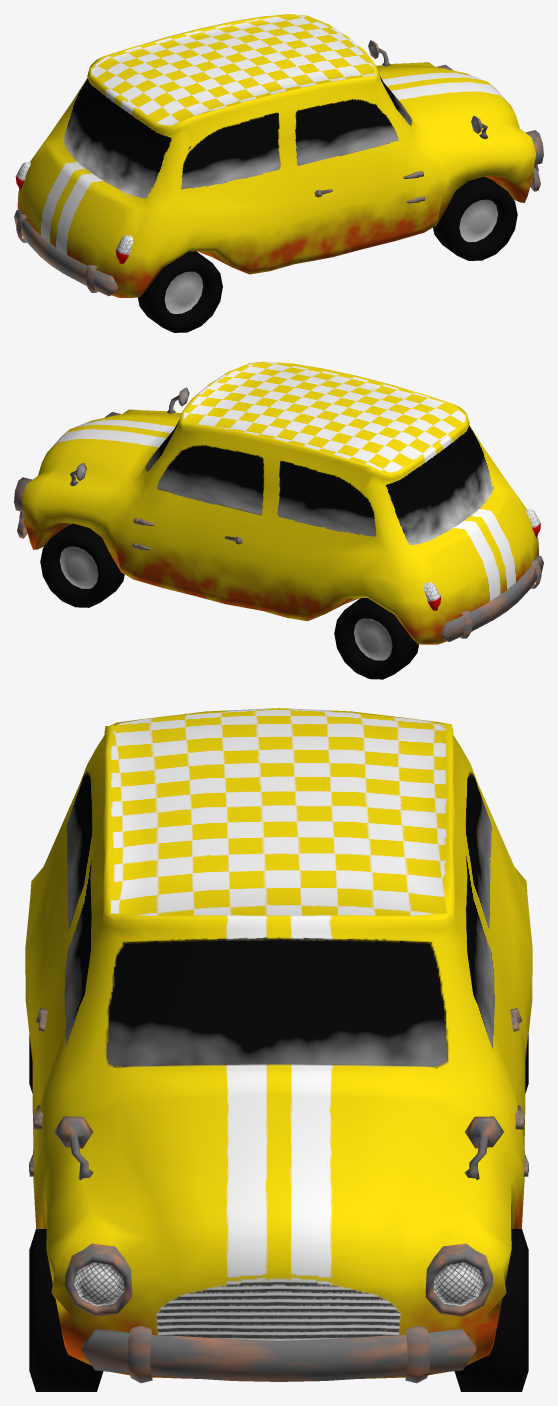
The model's file is caryellow.glb.
3 renders of one model, top to bottom at view 1: azimuth 30°, elevation 25°; view 2: azimuth 150°, elevation 25°; view 3: azimuth 270°, elevation 25°, orthographic. The views are drawn at different scales.
Visible parts, largest first — view 1: caryellow, lowpolywheel.021, lowpolywheel.022, Cube.016, backlight.005, RETROVISEURLOW.005; view 2: caryellow, lowpolywheel.024, lowpolywheel.023, Cube.016, backlight.005, RETROVISEURLOW.005; view 3: caryellow, Cube.017, lightinfront.005, lowpolywheel.021, lowpolywheel.024, RETROVISEURLOW.005, Cube.018.
Part boxes in pixels (x1,y1,x2,y2): caryellow: [17, 14, 536, 297]; lowpolywheel.021: [433, 176, 517, 260]; lowpolywheel.022: [138, 251, 222, 332]; Cube.016: [14, 209, 118, 296]; backlight.005: [15, 162, 132, 264]; RETROVISEURLOW.005: [368, 40, 488, 139]; caryellow: [21, 361, 538, 644]; lowpolywheel.024: [40, 523, 124, 607]; lowpolywheel.023: [334, 598, 418, 679]; Cube.016: [440, 555, 543, 641]; backlight.005: [424, 509, 540, 610]; RETROVISEURLOW.005: [69, 387, 189, 486]; caryellow: [25, 708, 532, 1378]; Cube.017: [81, 1326, 476, 1383]; lightinfront.005: [65, 1243, 492, 1316]; lowpolywheel.021: [29, 1229, 103, 1391]; lowpolywheel.024: [454, 1229, 528, 1391]; RETROVISEURLOW.005: [54, 1116, 503, 1180]; Cube.018: [29, 1008, 528, 1176].
Size of the model in its own units: 8.13 by 3.46 by 3.93.
1 material, 1 textured.
